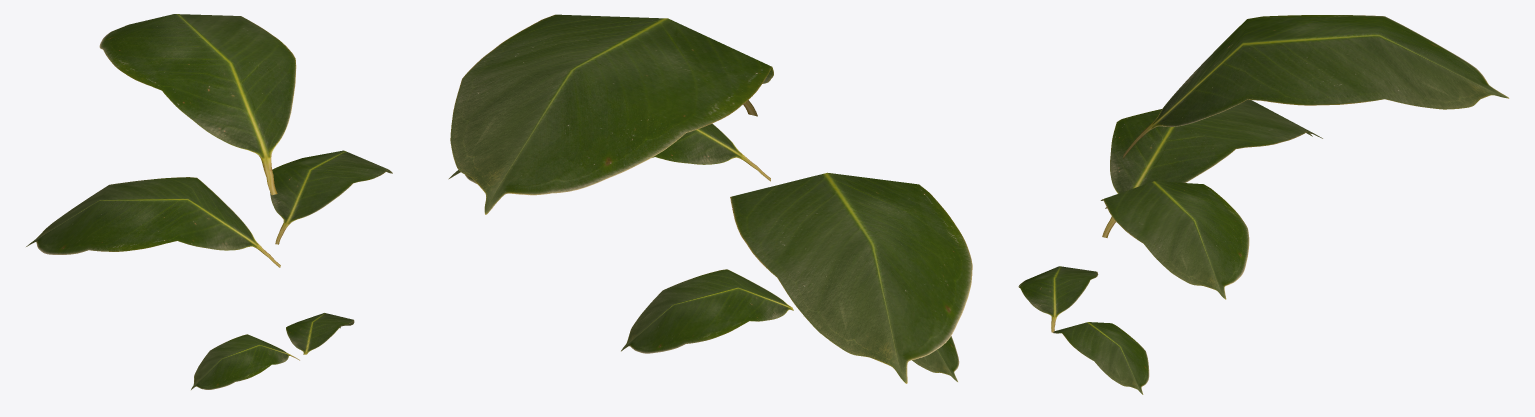
The model's file is leaf.dae.
3 renders of one model, left to right at view 1: azimuth 30°, elevation 25°; view 2: azimuth 150°, elevation 25°; view 3: azimuth 270°, elevation 25°, orthographic. The views are drawn at different scales.
Parts seen in each view (by area): view 1: leafOne; view 2: leafOne; view 3: leafOne.
Boxes of the visible parts, <box> form: leafOne: <box>26,14,392,389</box>; leafOne: <box>448,14,972,383</box>; leafOne: <box>1018,15,1509,394</box>.
Size of the model in its own units: 0.1684 by 0.1695 by 0.1213.
1 material, 1 textured.
